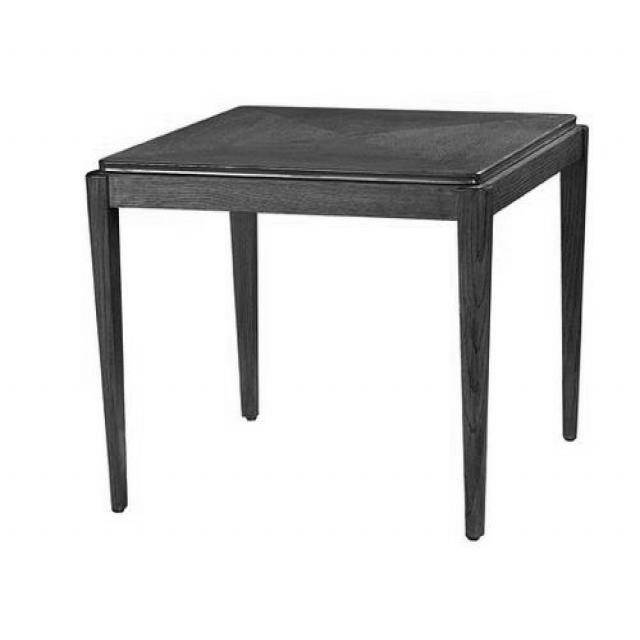table: (87, 104, 589, 541)
